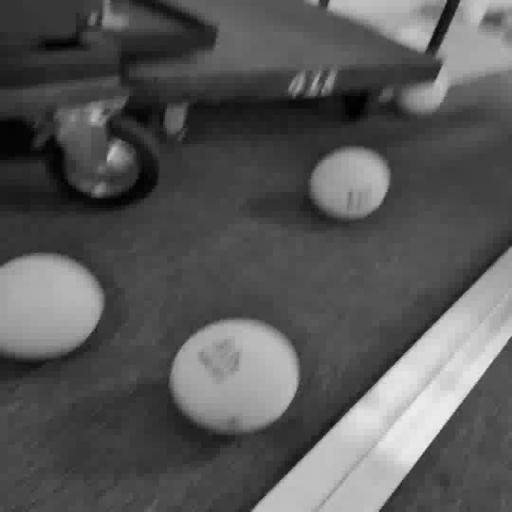fuel: (169, 319, 299, 434), (0, 253, 104, 361), (309, 147, 390, 220), (395, 72, 448, 115)
